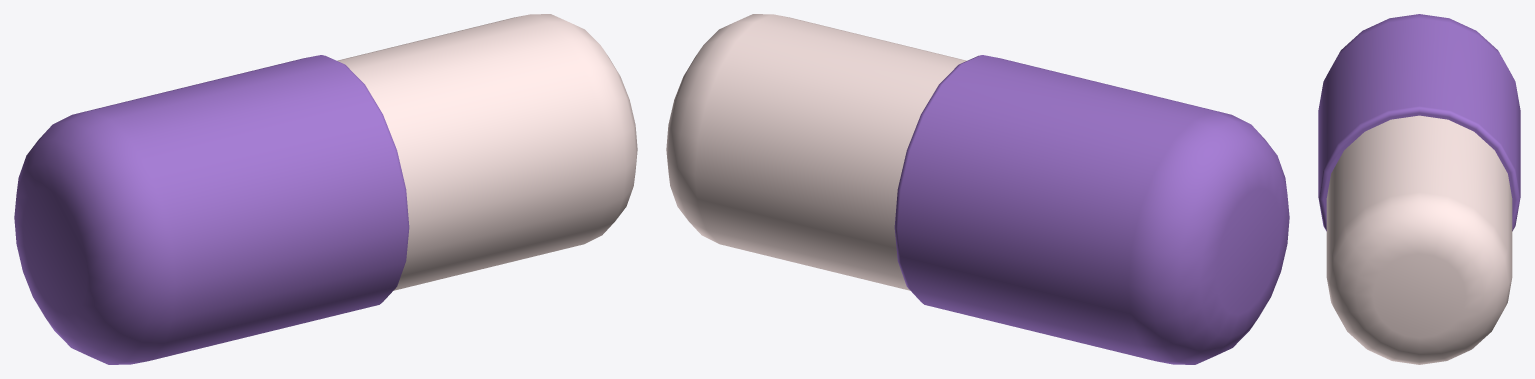
Rendered from Public_3_Pill_2.glb.
3 renders of one model, left to right at view 1: azimuth 30°, elevation 25°; view 2: azimuth 150°, elevation 25°; view 3: azimuth 270°, elevation 25°, orthographic. The views are drawn at different scales.
Parts seen in each view (by area): view 1: Public_3_Pill_2; view 2: Public_3_Pill_2; view 3: Public_3_Pill_2.
Part boxes in pixels (x1=…): Public_3_Pill_2: x1=14, y1=14, x2=637, y2=364; Public_3_Pill_2: x1=666, y1=14, x2=1289, y2=364; Public_3_Pill_2: x1=1318, y1=14, x2=1520, y2=364.
Bounding box in the file's own units: 1.38 × 0.5679 × 0.5679.
Materials: 1 (1 with a texture image).
